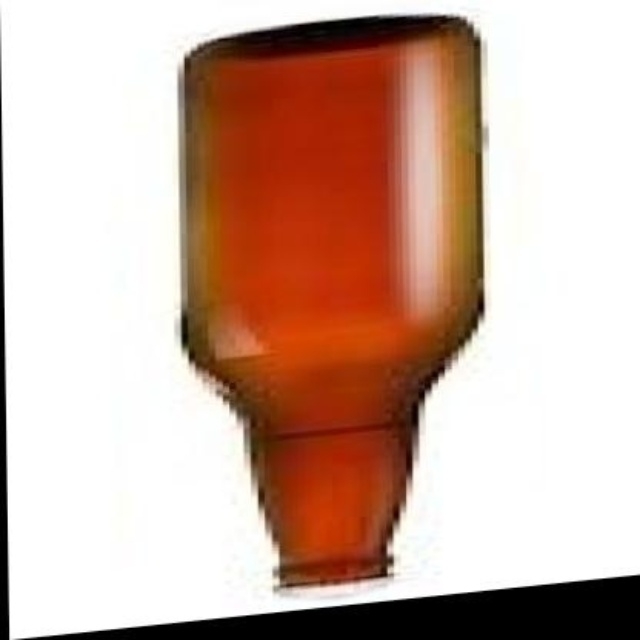trash: (182, 17, 482, 585)
